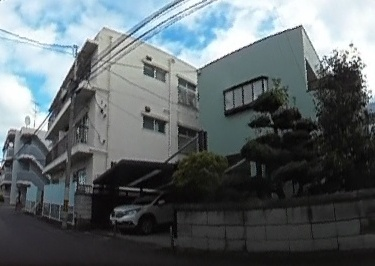person: (15, 188, 23, 210)
